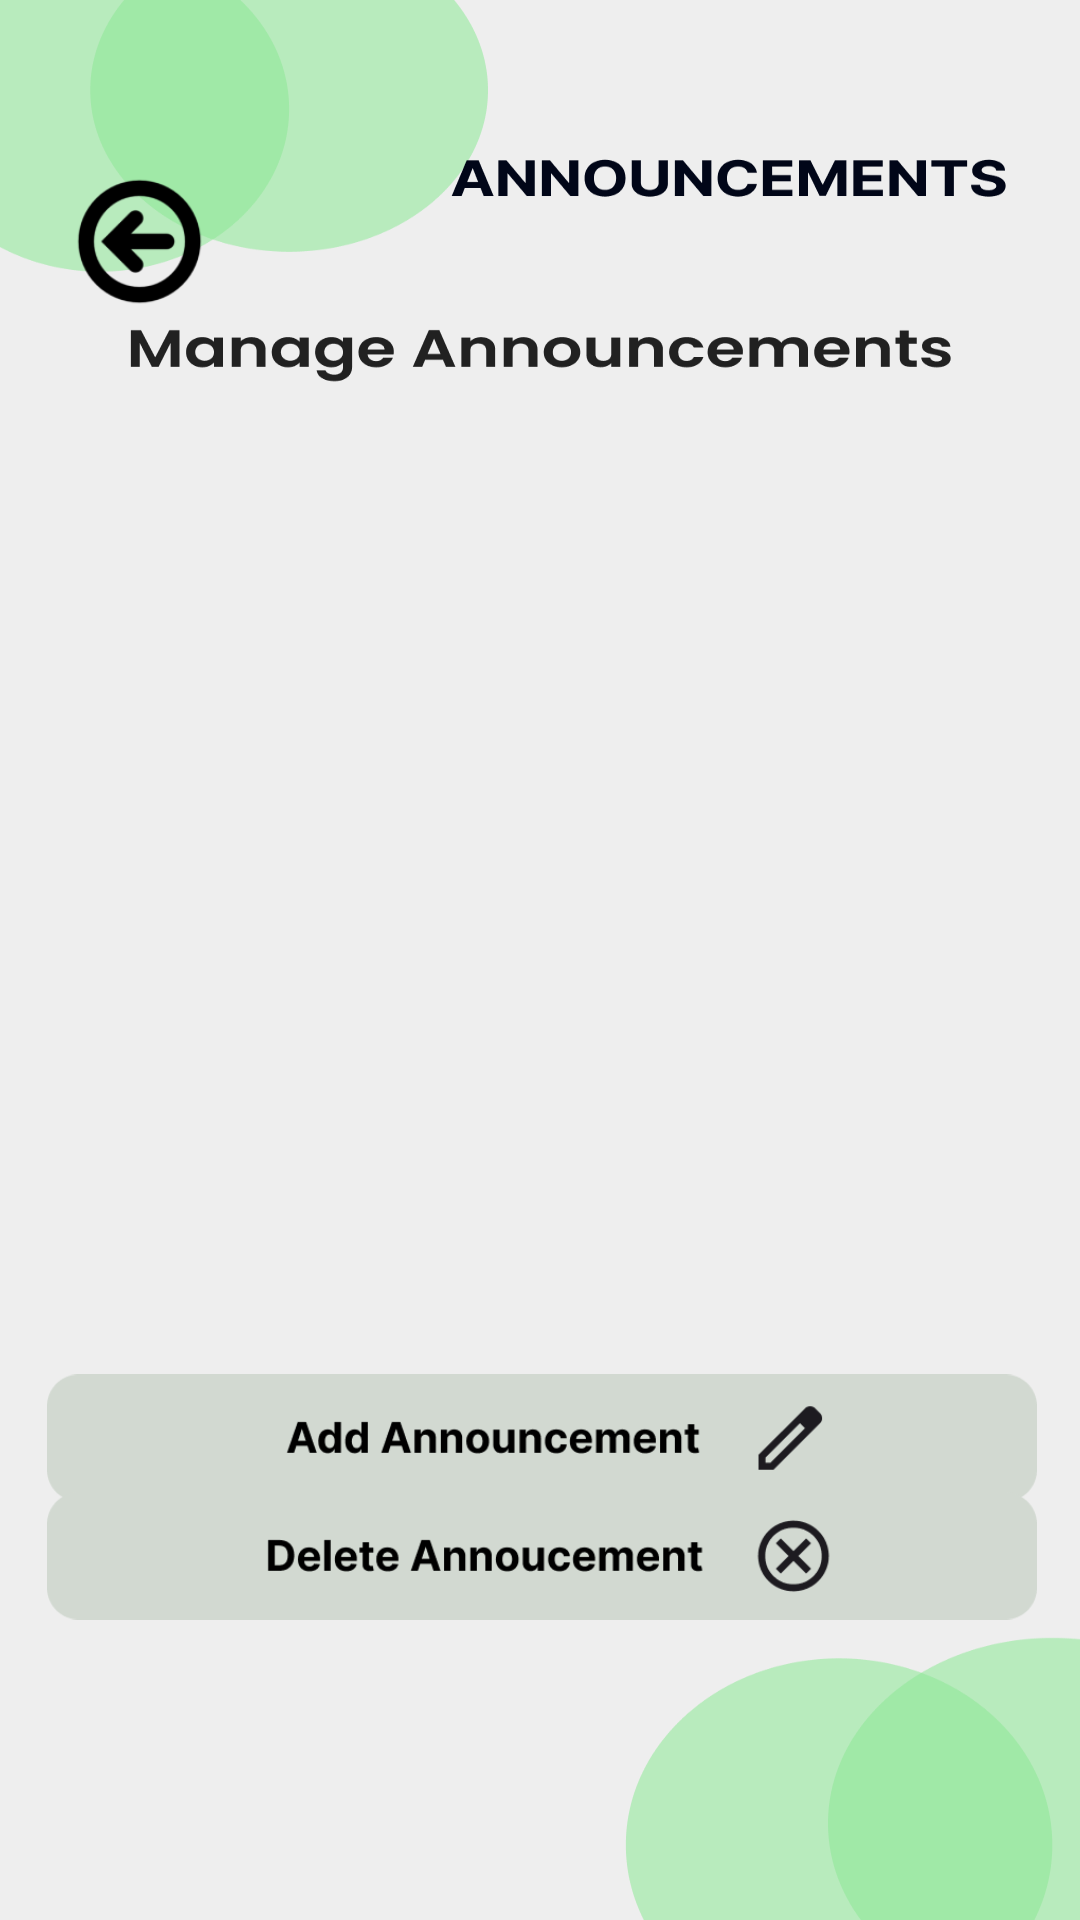

Where to tap for icons on this 1080px x 1920px app screen, as (x=x, y=y):
Back: (x=139, y=241)
